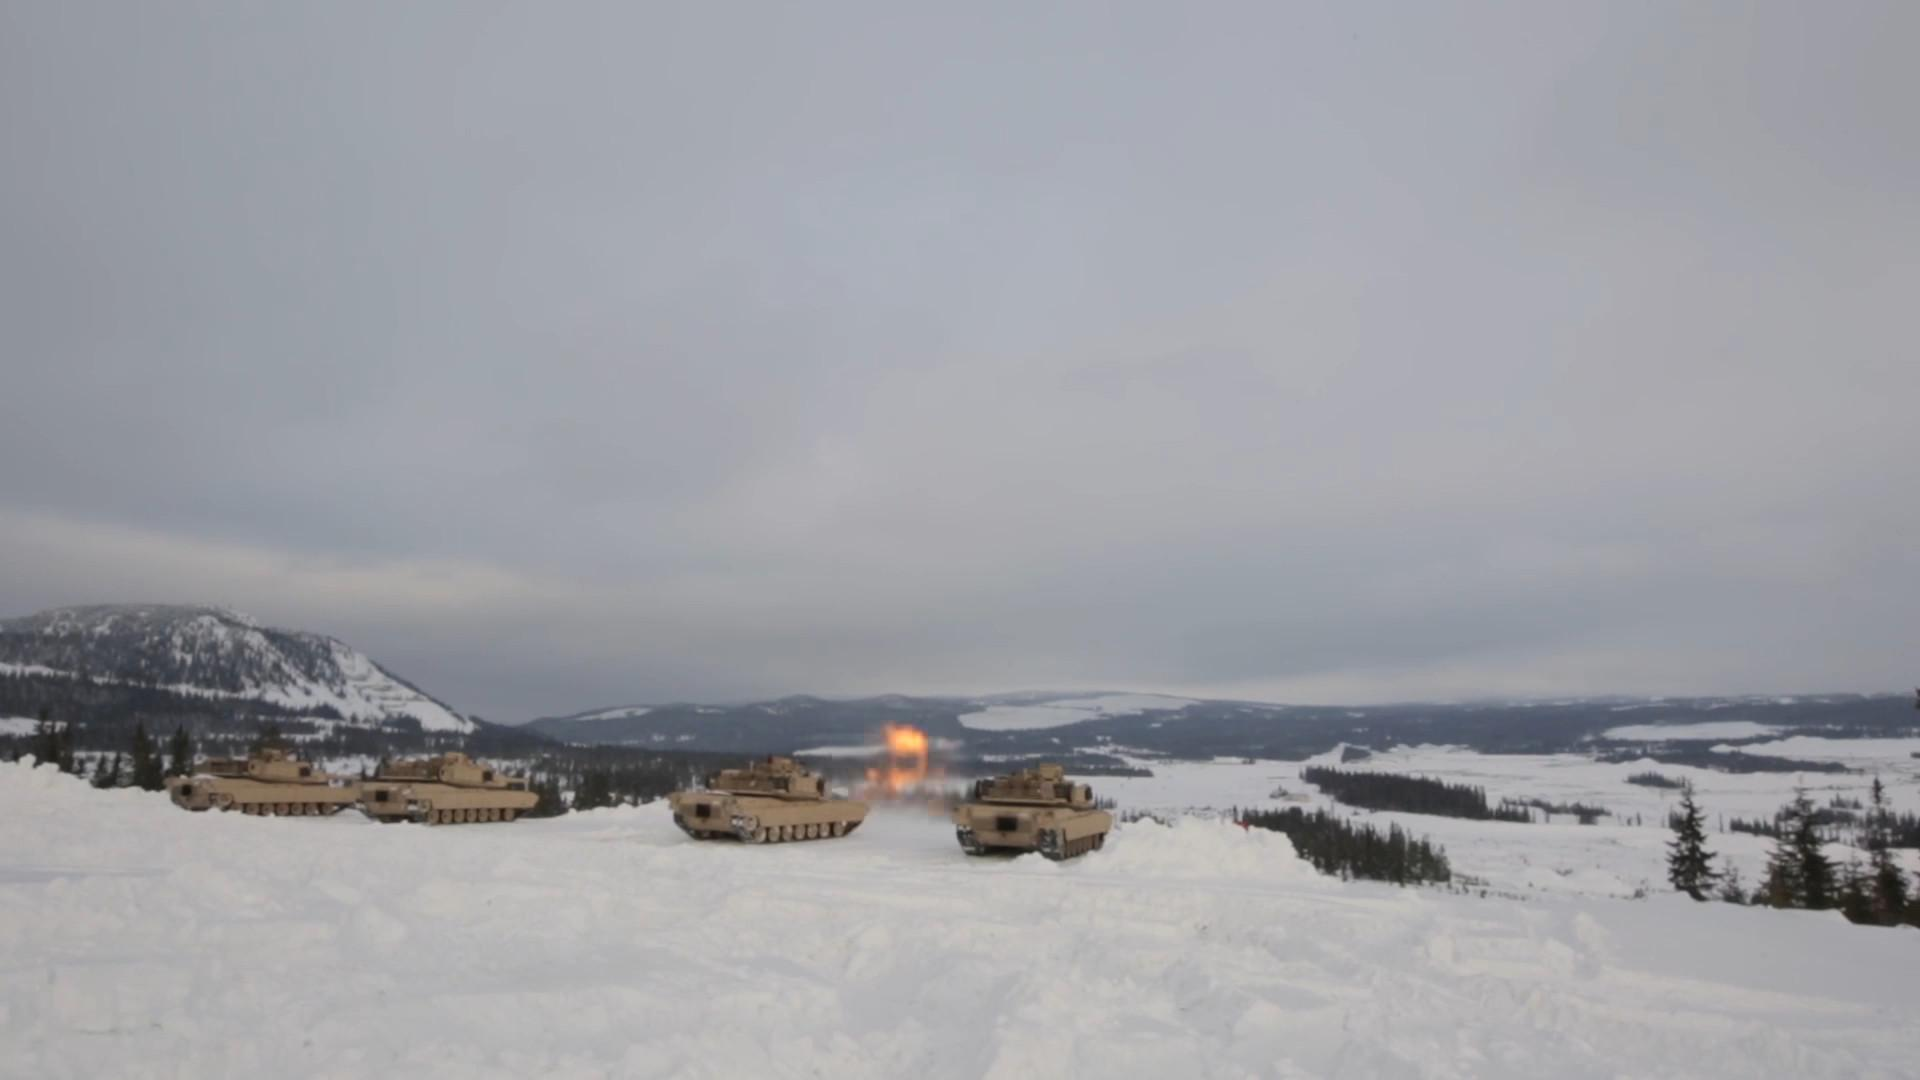tank: (671, 754, 866, 844), (955, 762, 1110, 858), (361, 752, 539, 825), (169, 757, 360, 819)
